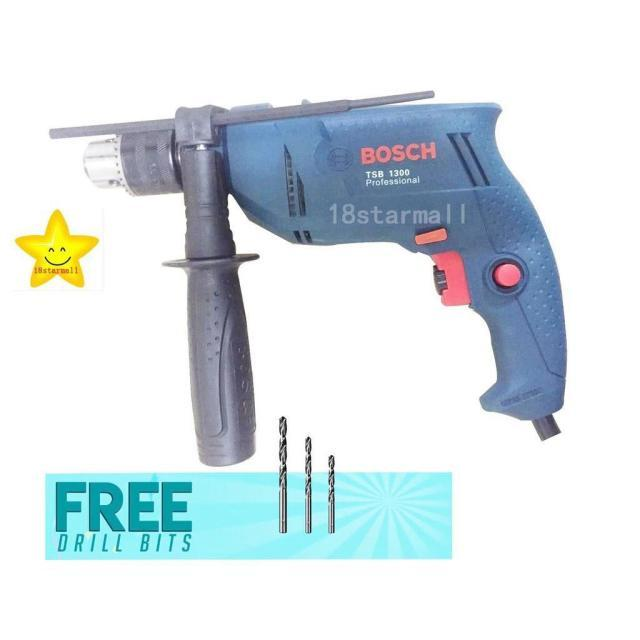drill: (49, 90, 568, 468)
